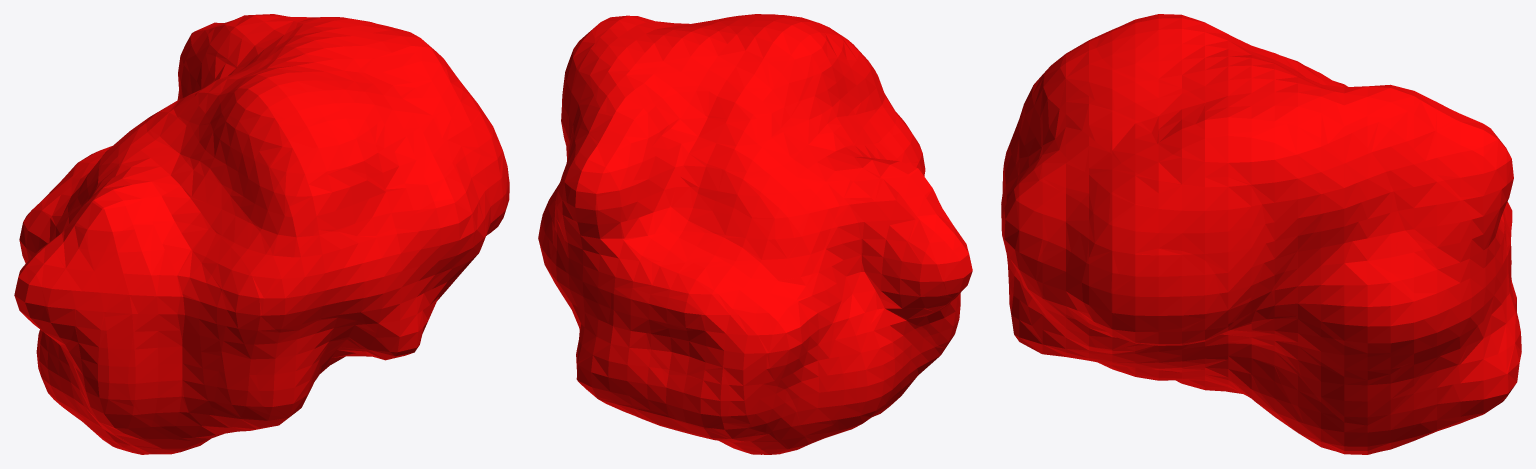
Rendered from eda_coarse.dae.
3 renders of one model, left to right at view 1: azimuth 30°, elevation 25°; view 2: azimuth 150°, elevation 25°; view 3: azimuth 270°, elevation 25°, orthographic. The views are drawn at different scales.
Visible parts, largest first — view 1: eda; view 2: eda; view 3: eda.
Boxes of the visible parts, left/top/right/bottom form: eda: left=14, top=14, right=509, bottom=454; eda: left=538, top=14, right=972, bottom=454; eda: left=1001, top=14, right=1521, bottom=454.
Bounding box in the file's own units: 50.86 × 41.64 × 44.9.
